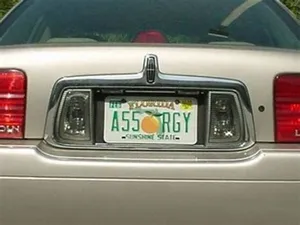number_plate: (76, 87, 222, 150)
